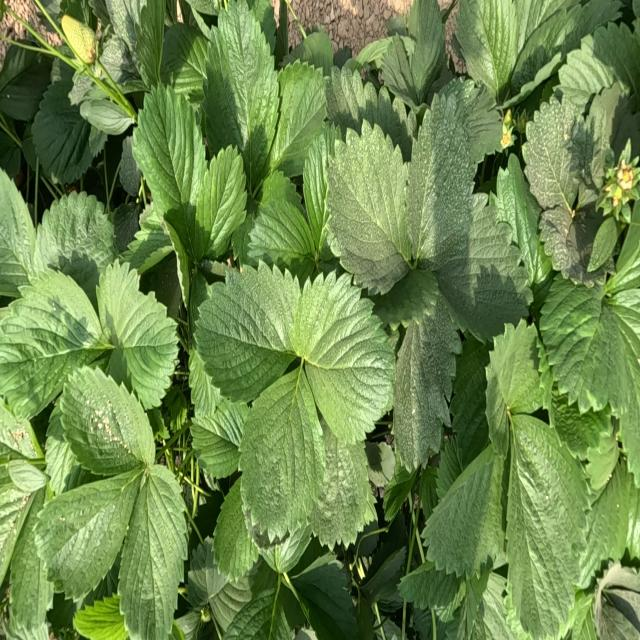Leaves: (507, 413, 588, 639), (407, 81, 502, 270), (293, 274, 394, 441), (0, 272, 102, 417), (239, 368, 326, 537), (35, 468, 142, 599), (196, 265, 299, 400), (134, 82, 207, 272), (204, 4, 278, 189), (329, 127, 410, 294), (441, 193, 525, 339), (540, 277, 631, 410), (118, 467, 187, 639), (424, 444, 504, 578), (60, 367, 153, 475), (393, 312, 454, 469), (326, 66, 416, 161), (239, 172, 316, 281), (38, 192, 115, 291), (577, 462, 638, 585), (191, 349, 249, 477), (496, 154, 550, 285), (311, 439, 374, 546), (119, 293, 178, 407), (269, 61, 327, 171), (455, 0, 521, 96), (522, 96, 578, 208), (559, 23, 640, 100), (188, 537, 251, 636), (31, 81, 91, 183), (9, 498, 54, 632), (194, 146, 246, 260), (291, 555, 356, 639), (223, 561, 290, 639), (0, 170, 41, 296), (487, 320, 542, 412), (510, 6, 566, 95), (303, 130, 339, 264), (214, 478, 258, 583), (450, 338, 489, 449), (540, 206, 597, 278), (407, 0, 446, 101), (97, 261, 143, 346), (399, 561, 464, 613), (161, 23, 208, 93), (381, 269, 440, 323), (0, 60, 50, 119), (80, 87, 135, 135), (263, 517, 311, 572), (136, 0, 165, 87), (121, 227, 173, 274), (381, 37, 417, 104), (164, 219, 191, 308), (74, 596, 127, 639), (383, 464, 419, 523), (105, 0, 144, 54), (290, 31, 334, 76), (100, 35, 134, 82), (436, 439, 463, 498), (365, 442, 395, 488), (119, 136, 140, 197), (356, 39, 391, 67)
Strawberries: (61, 16, 95, 63), (616, 156, 635, 188)
